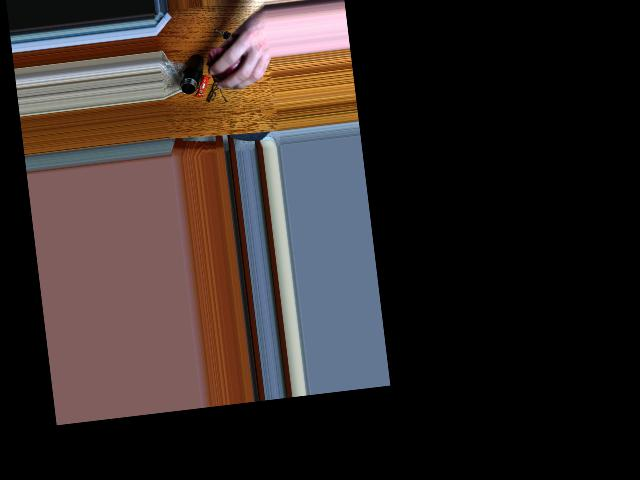onion: (212, 35, 250, 84)
